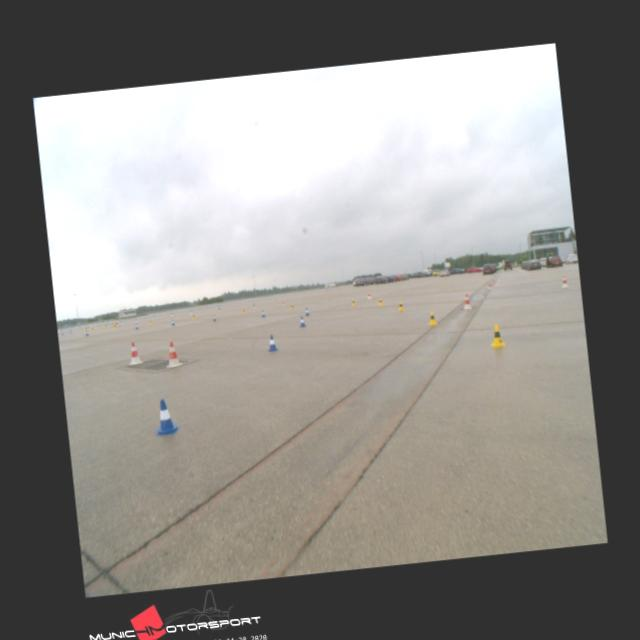blue_cone: (152, 398, 178, 434), (266, 334, 278, 350), (298, 316, 305, 327), (304, 307, 310, 315), (260, 310, 266, 316), (212, 314, 216, 320)
yellow_cone: (489, 324, 505, 346), (427, 310, 438, 324), (398, 300, 403, 310), (378, 297, 382, 305), (351, 298, 355, 306), (290, 304, 294, 310)
